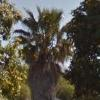Palm tree: (19, 4, 76, 91)
